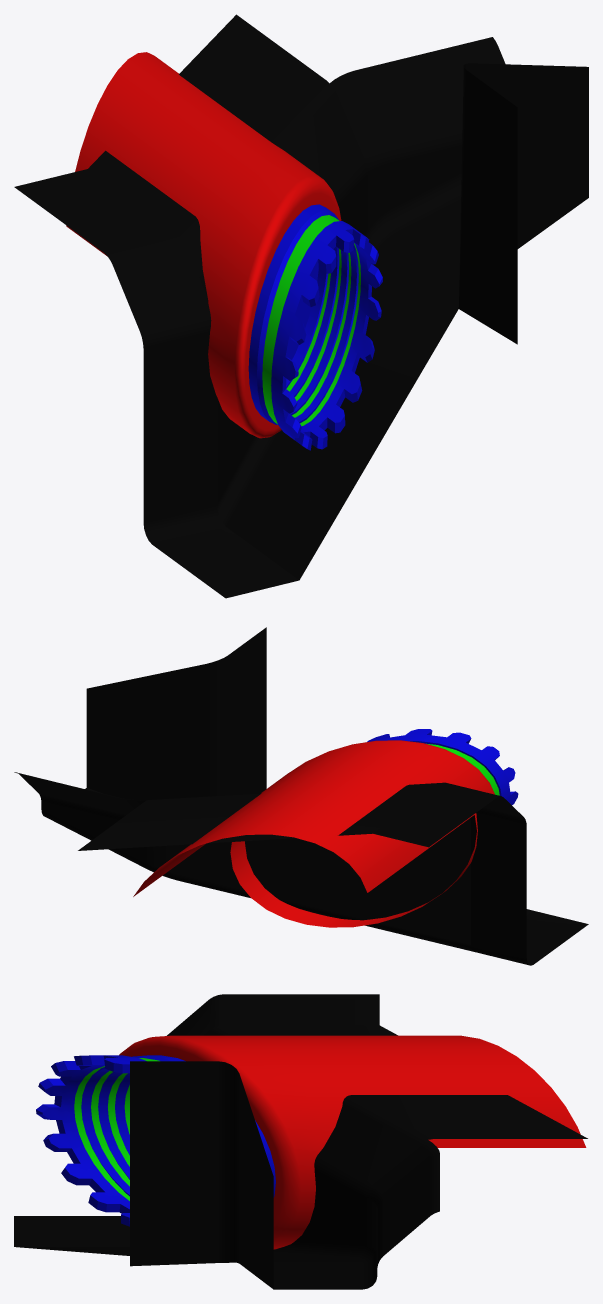
File: Spaceship_Engine.fbx
The picture shows the model from 3 angles, top to bottom: view 1: azimuth 30°, elevation 25°; view 2: azimuth 150°, elevation 25°; view 3: azimuth 270°, elevation 25°; orthographic projection. The views are drawn at different scales.
Visible parts, largest first — view 1: SM_Left_Engine; view 2: SM_Left_Engine; view 3: SM_Left_Engine.
Part boxes in pixels (<box>): SM_Left_Engine: <box>14,14,588,598</box>; SM_Left_Engine: <box>14,627,588,965</box>; SM_Left_Engine: <box>14,994,587,1289</box>.
Bounding box in the file's own units: 3009 × 1983 × 3378.
